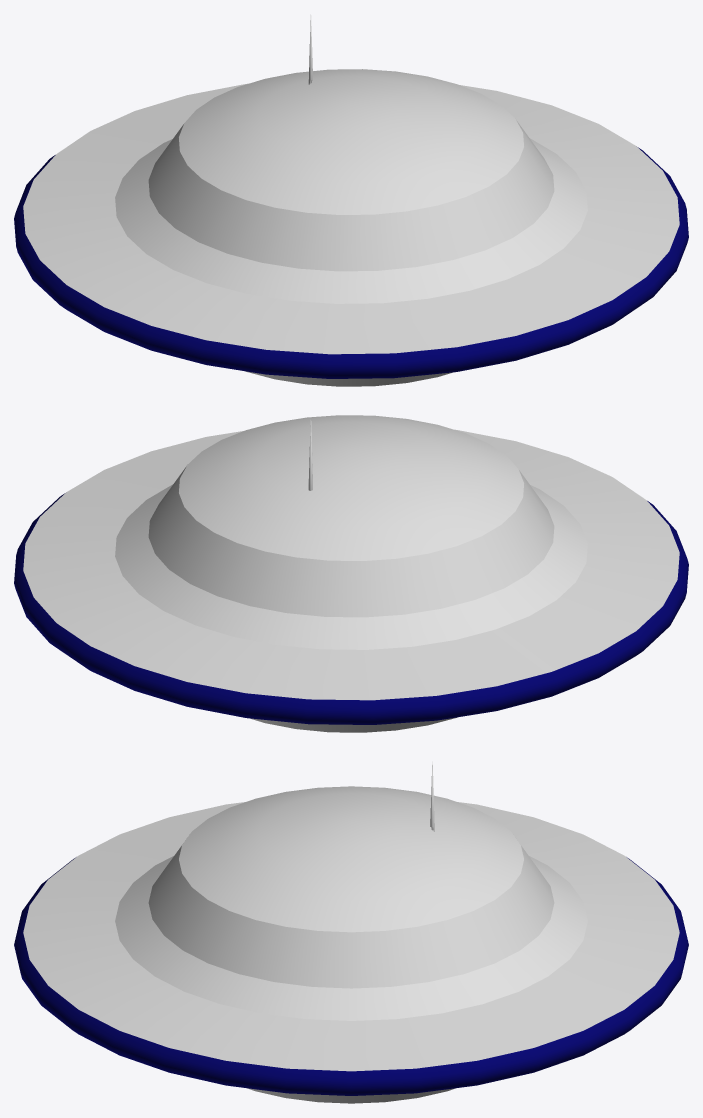
The model's file is lod1_body.dae.
3 views of the same model, one above another, from view 1: azimuth 30°, elevation 25°; view 2: azimuth 150°, elevation 25°; view 3: azimuth 270°, elevation 25° (orthographic).
Visible parts, largest first — view 1: lod2_body0, lod2_body1; view 2: lod2_body0, lod2_body1; view 3: lod2_body0, lod2_body1.
Part boxes in pixels (x1=…): lod2_body0: x1=23, y1=14, x2=679, y2=386; lod2_body1: x1=14, y1=147, x2=688, y2=378; lod2_body0: x1=23, y1=415, x2=679, y2=732; lod2_body1: x1=14, y1=493, x2=688, y2=724; lod2_body0: x1=23, y1=761, x2=679, y2=1103; lod2_body1: x1=14, y1=857, x2=688, y2=1095.
Bounding box in the file's own units: 22.49 × 22.49 × 11.01.
